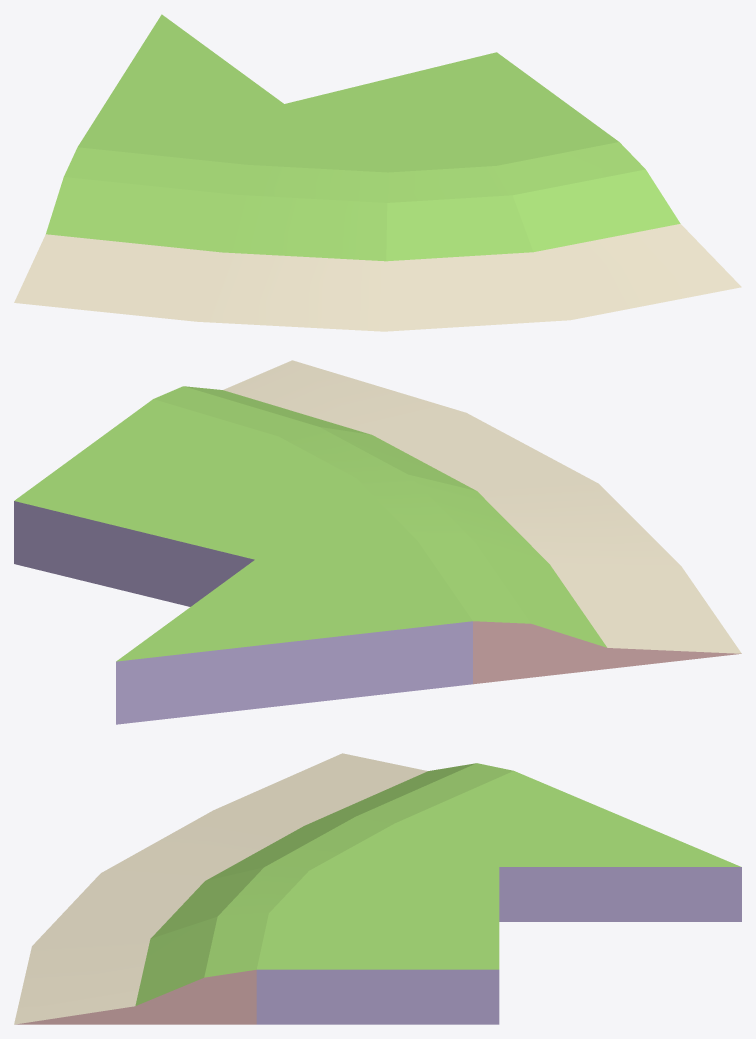
The model's file is Path_Terrain_45_Degrees_Curve_Inner_3x3.fbx.
3 renders of one model, top to bottom at view 1: azimuth 30°, elevation 25°; view 2: azimuth 150°, elevation 25°; view 3: azimuth 270°, elevation 25°, orthographic. The views are drawn at different scales.
Visible parts, largest first — view 1: Path_Terrain_45_Degrees_Curve_Inner_3x3; view 2: Path_Terrain_45_Degrees_Curve_Inner_3x3; view 3: Path_Terrain_45_Degrees_Curve_Inner_3x3.
Part boxes in pixels (x1,y1,x2,y2): Path_Terrain_45_Degrees_Curve_Inner_3x3: (14, 14, 741, 331); Path_Terrain_45_Degrees_Curve_Inner_3x3: (14, 360, 741, 724); Path_Terrain_45_Degrees_Curve_Inner_3x3: (14, 753, 741, 1024).
Size of the model in its own units: 265 by 25 by 300.
